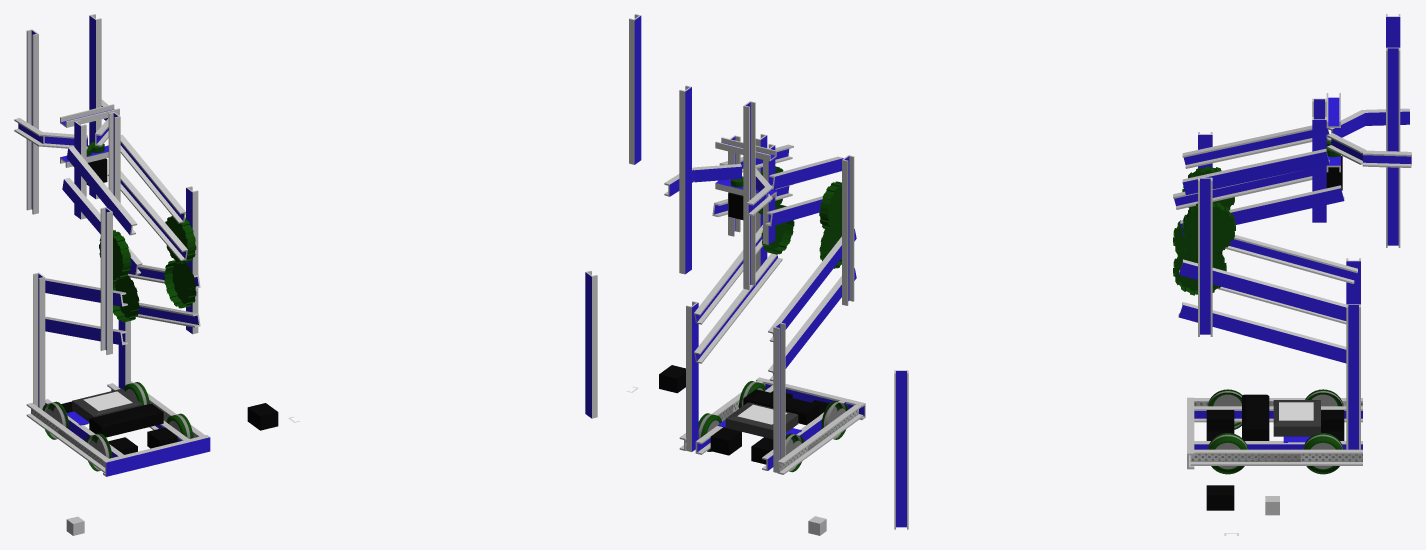
File: Talos.fbx
3 renders of one model, left to right at view 1: azimuth 30°, elevation 25°; view 2: azimuth 150°, elevation 25°; view 3: azimuth 270°, elevation 25°, orthographic. The views are drawn at different scales.
Parts seen in each view (by area): view 1: left claw.001, chassis.008, Plane.014, double 4 bar holder.001, chassis.011, chassis.014, Right claw.003, top upper.001, top lower, chassis.005, top upper, chassis (+13 smaller); view 2: Right claw.003, left claw.001, Plane.014, double 4 bar holder.001, chassis.011, chassis.012, bottom lower.001, chassis, chassis.005, bottom upper, bottom lower, bottom upper.001 (+27 smaller); view 3: chassis.002, Right claw.003, bottom lower.001, bottom upper.001, double 4 bar holder, Plane.014, top upper, top upper.001, bottom upper, chassis.012, top lower, chassis (+13 smaller).
Boxes of the visible parts, x1,y1,x2,y2 form: left claw.001: [26, 29, 38, 214]; chassis.008: [103, 435, 210, 476]; Plane.014: [585, 270, 597, 418]; double 4 bar holder.001: [100, 207, 112, 354]; chassis.011: [33, 272, 45, 409]; chassis.014: [89, 403, 163, 437]; Right claw.003: [89, 14, 101, 199]; top upper.001: [67, 146, 137, 235]; top lower: [107, 171, 187, 261]; chassis.005: [26, 403, 108, 472]; top upper: [120, 134, 185, 223]; chassis: [72, 388, 143, 421]; Right claw.003: [679, 85, 691, 274]; left claw.001: [743, 101, 755, 289]; Plane.014: [629, 14, 641, 164]; double 4 bar holder.001: [842, 155, 854, 305]; chassis.011: [773, 322, 785, 472]; chassis.012: [686, 301, 698, 451]; bottom lower.001: [694, 253, 782, 363]; chassis: [725, 402, 798, 439]; chassis.005: [777, 404, 863, 474]; bottom upper: [768, 228, 856, 341]; bottom lower: [768, 268, 856, 380]; bottom upper.001: [694, 225, 762, 324]; chassis.002: [1190, 449, 1362, 465]; Right claw.003: [1386, 47, 1400, 247]; bottom lower.001: [1178, 302, 1346, 363]; bottom upper.001: [1179, 259, 1346, 320]; double 4 bar holder: [1198, 177, 1212, 336]; Plane.014: [894, 370, 908, 529]; top upper: [1182, 148, 1329, 194]; top upper.001: [1182, 125, 1329, 168]; bottom upper: [1225, 235, 1357, 284]; chassis.012: [1346, 304, 1360, 449]; top lower: [1180, 185, 1344, 236]; chassis: [1273, 400, 1320, 436].
Bounding box in the file's own units: 6294 × 7665 × 7145.
